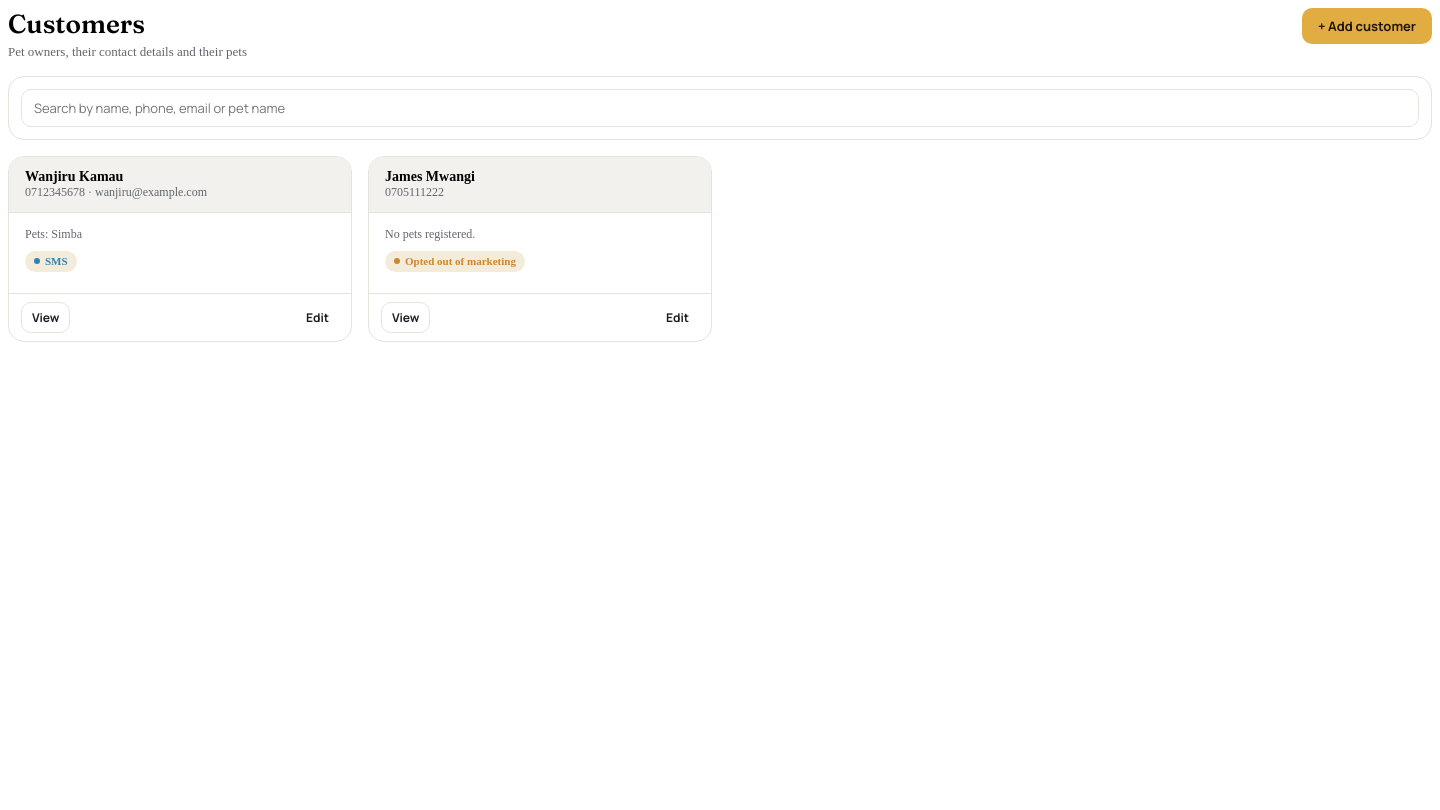
Test case: CustomersPage › blocks an invalid email before saving
expect the text "Wanjiru Kamau" is shown: met, box left=25, top=169, right=123, bottom=184
Click the button "+ Add customer".
click(1367, 26)  # box left=1302, top=8, right=1432, bottom=44
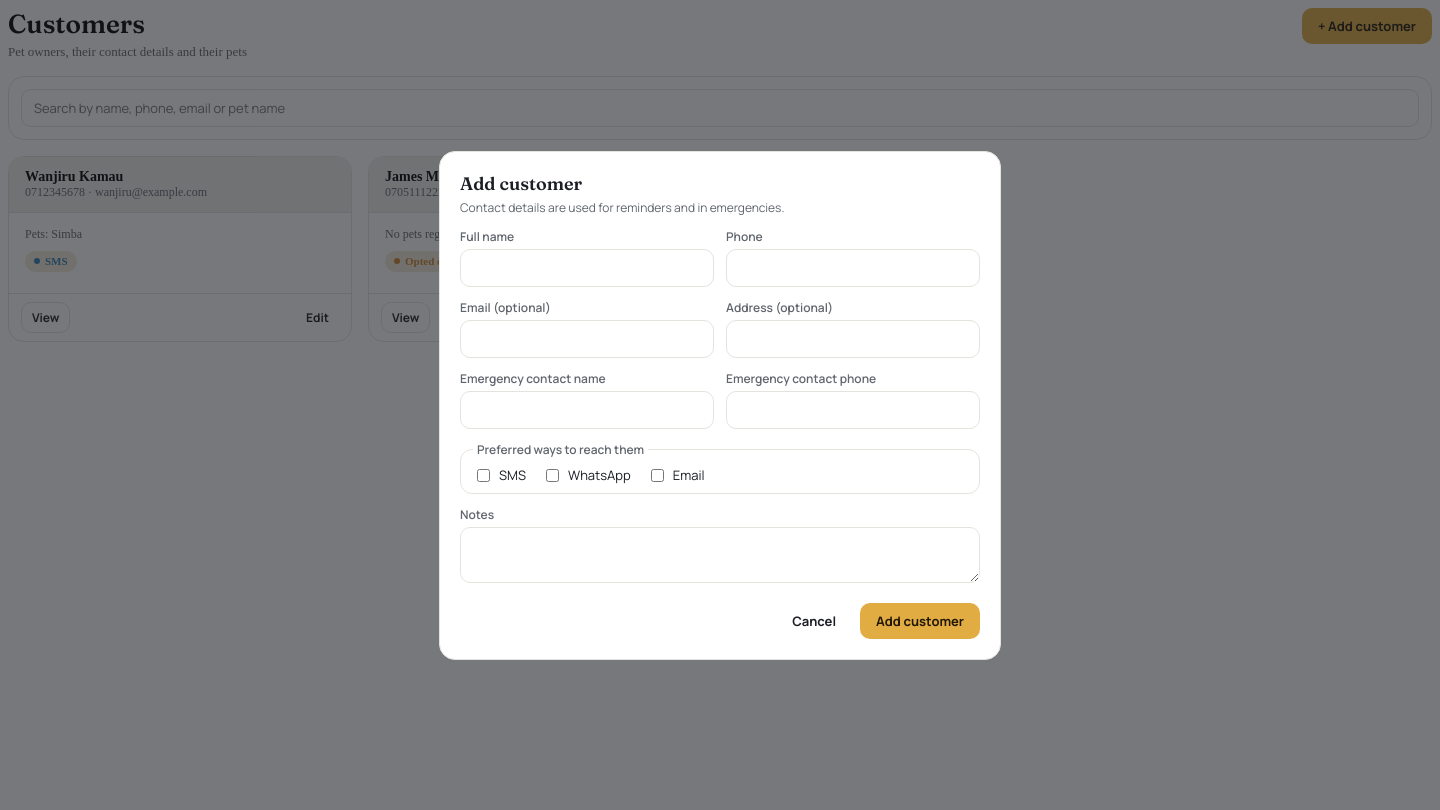
Type "New Person" into the field labelled "Full name".
click(587, 268); type("New Person")  # box left=460, top=248, right=714, bottom=286
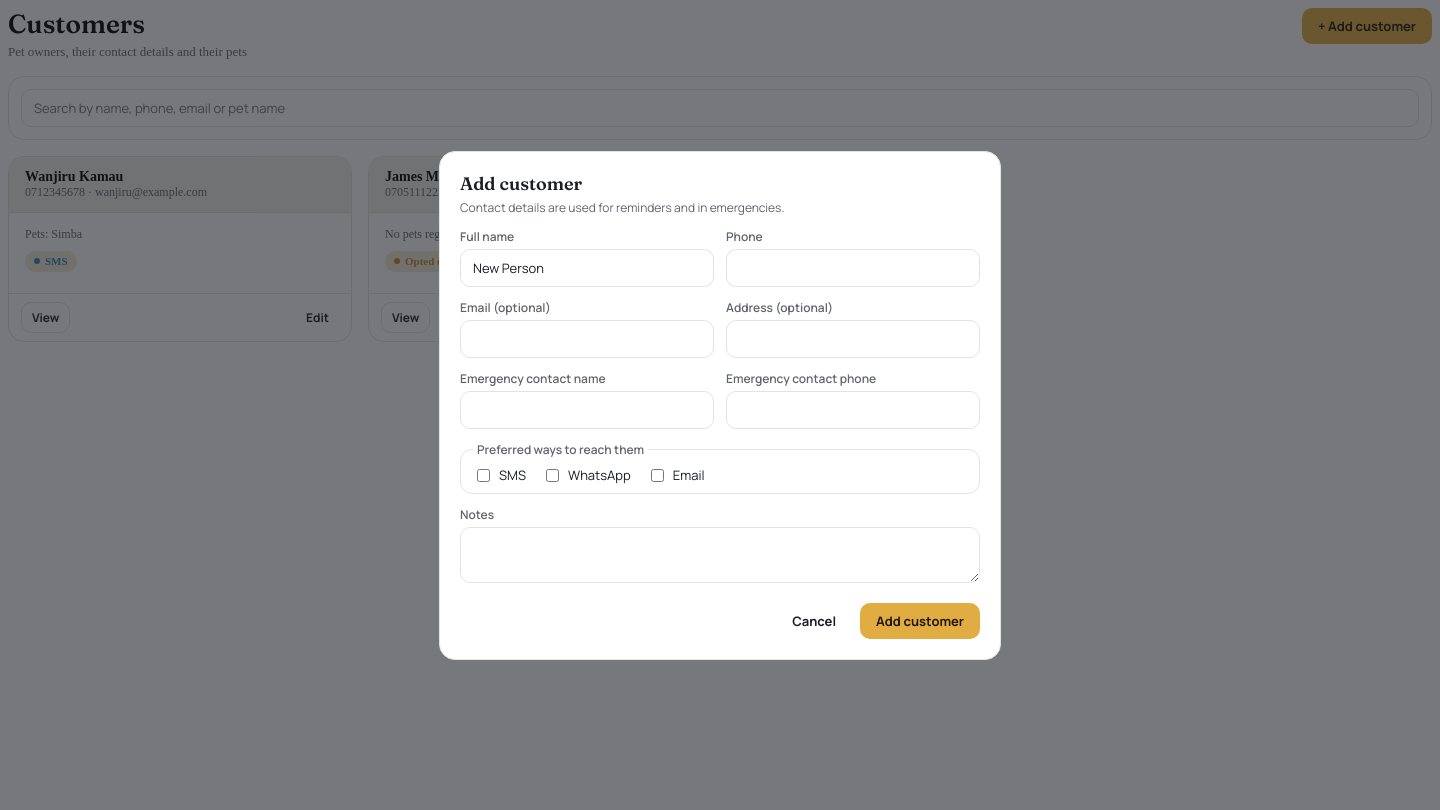
Type "bad@" into the field labelled "Email (optional)".
click(587, 338); type("bad@")  # box left=460, top=320, right=714, bottom=358
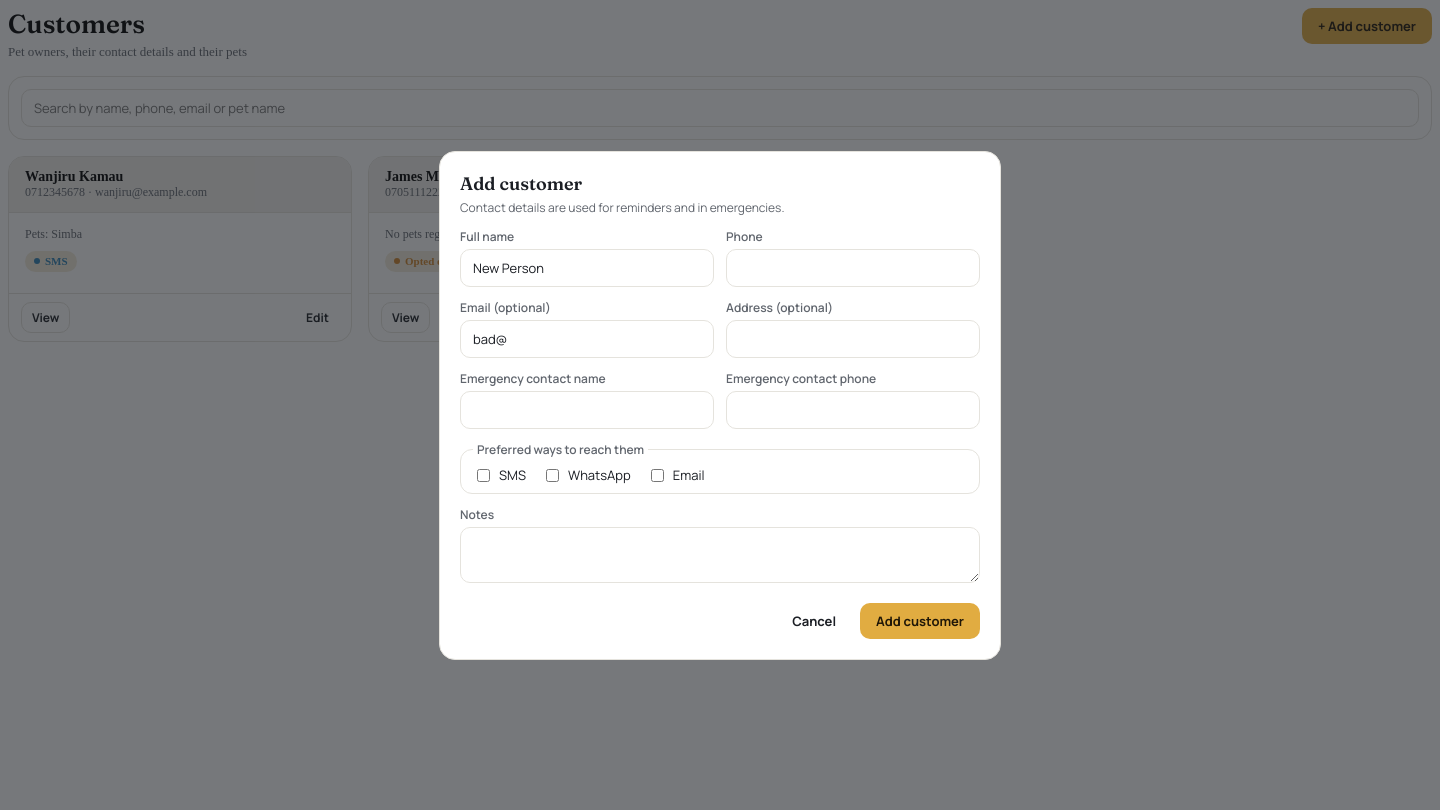
Click the button "Add customer".
click(920, 620)  # box left=860, top=602, right=980, bottom=638
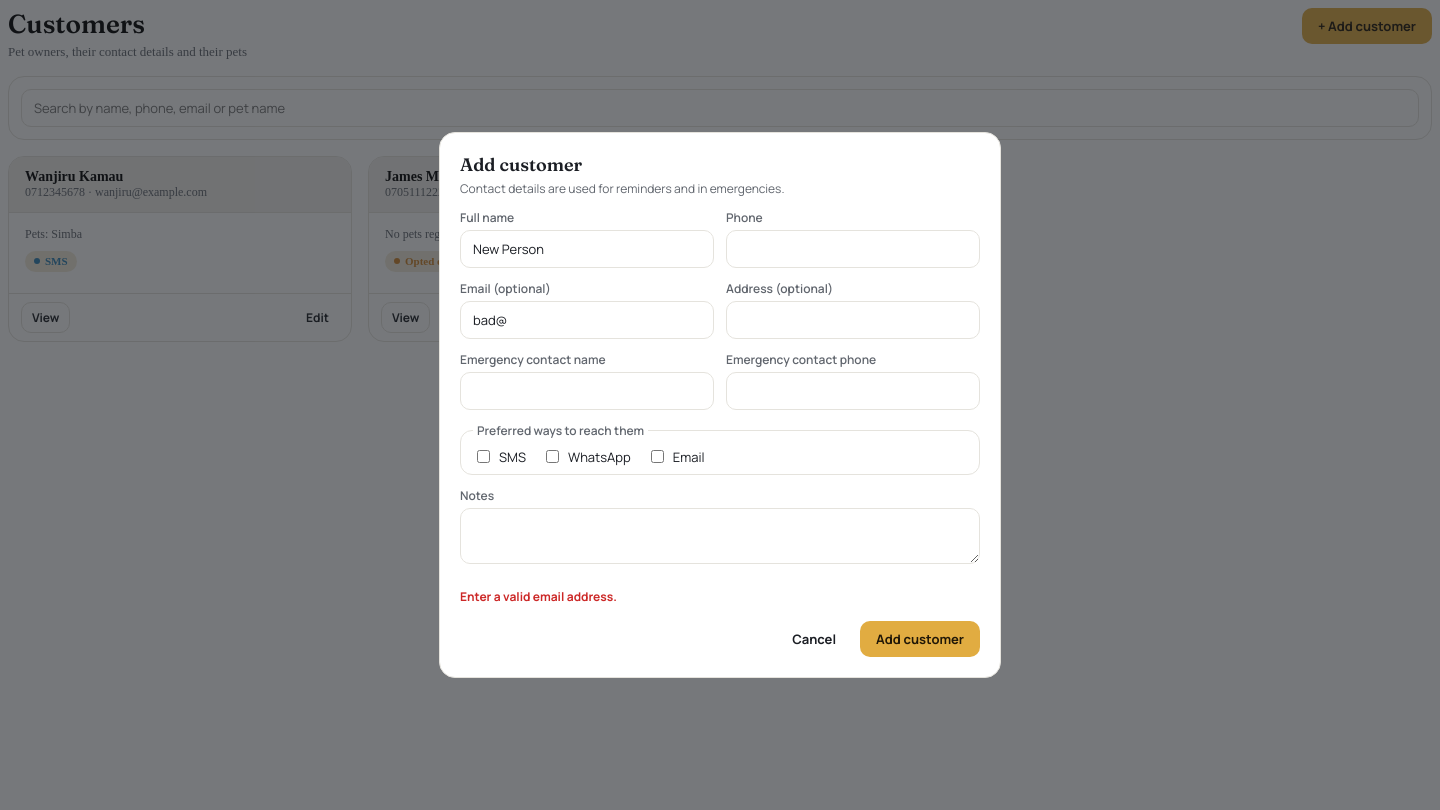
expect the text "Enter a valid email address." is shown: met, box left=460, top=588, right=617, bottom=605
